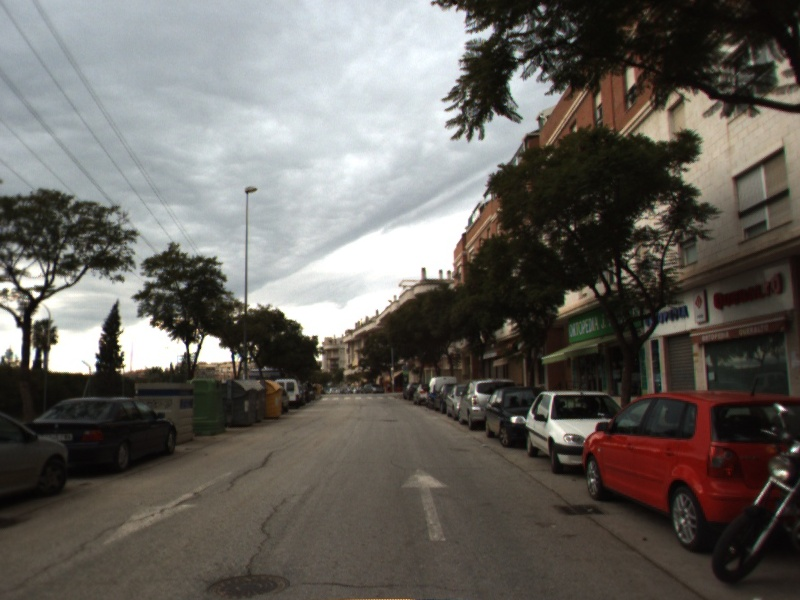STRAIGHT: (398, 465, 452, 544)
